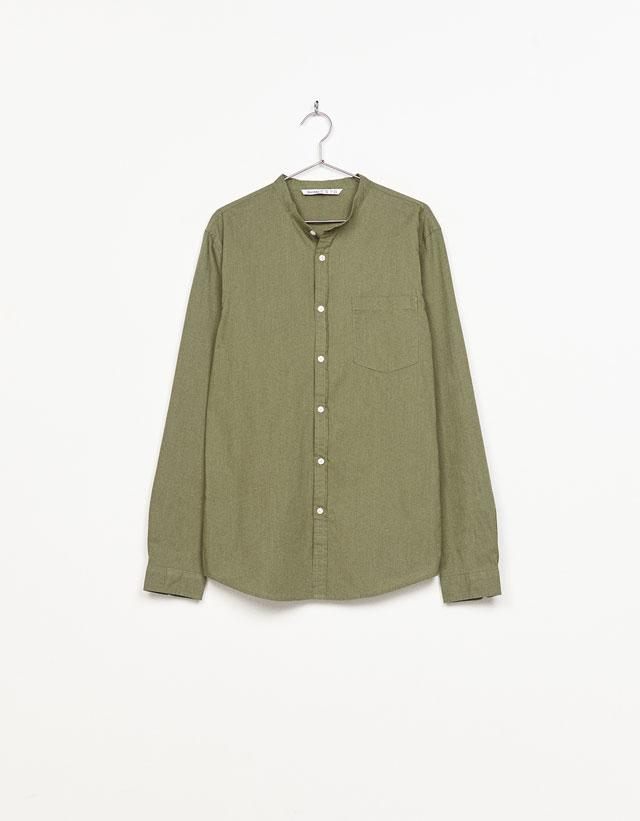teeshirt: (138, 170, 512, 647)
